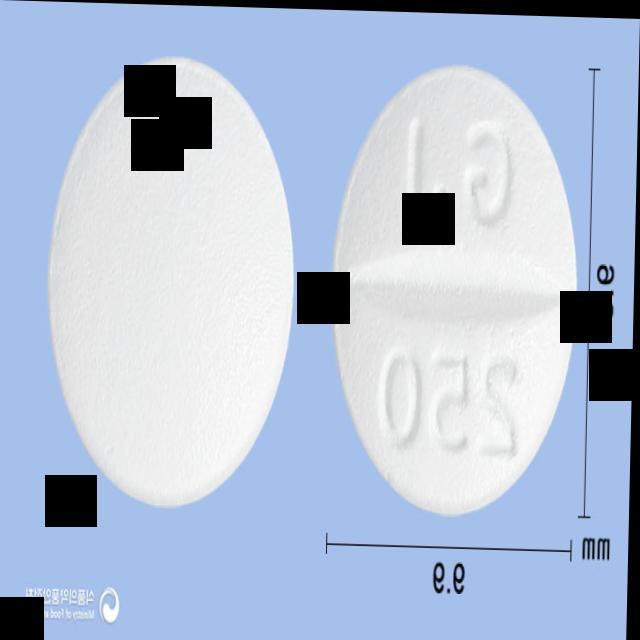Newloxacin Tab: (43, 51, 300, 509), (330, 56, 584, 515)
